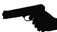pistol: (1, 3, 57, 32)
